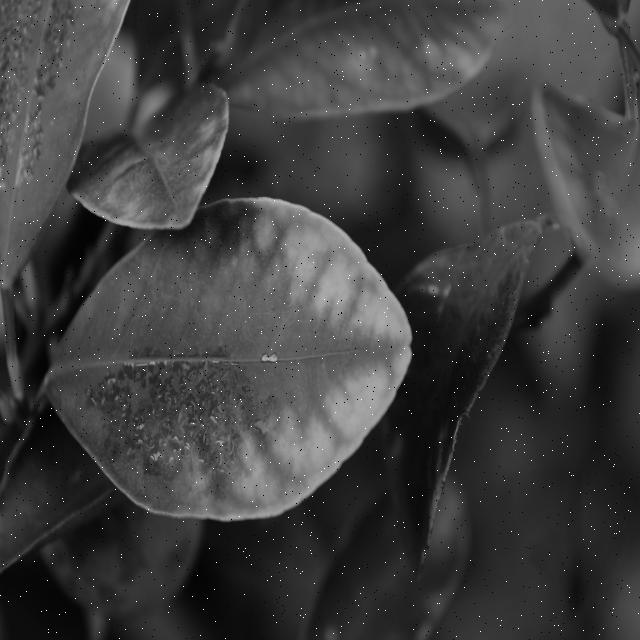greening: (123, 195, 421, 525)
